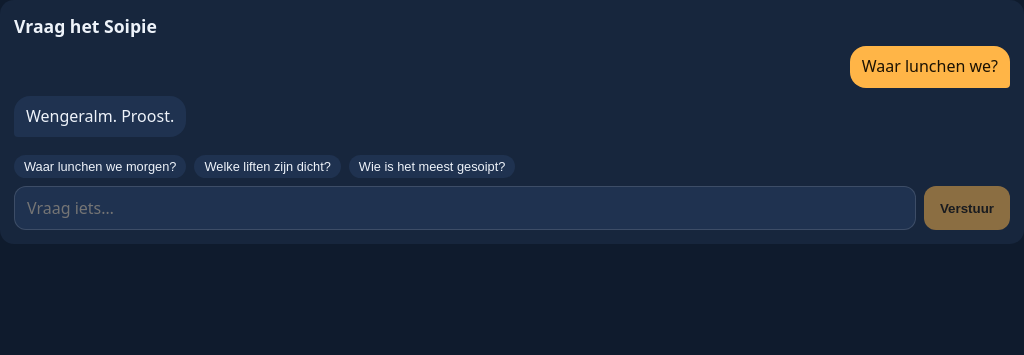
ChatPanel › shows the daily limit message
Type "Nog eentje?" into the field named "Bericht aan Soipie" at (465, 208), box x1=14 y1=186 x2=916 y2=230
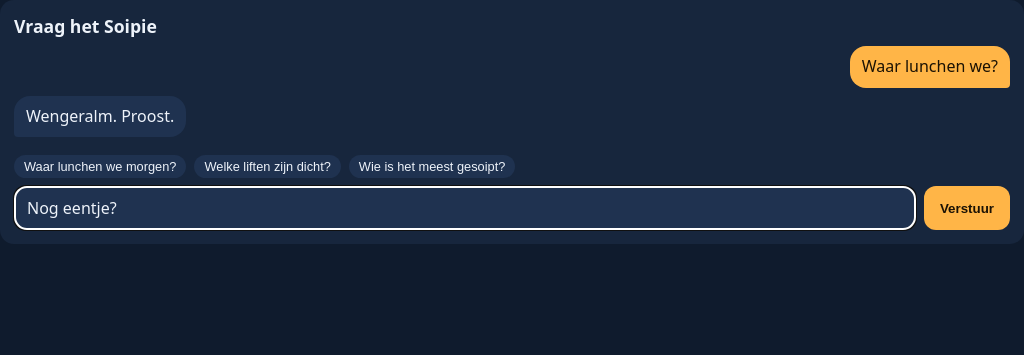
Click the button "Verstuur" at (967, 208), box x1=924 y1=186 x2=1010 y2=230
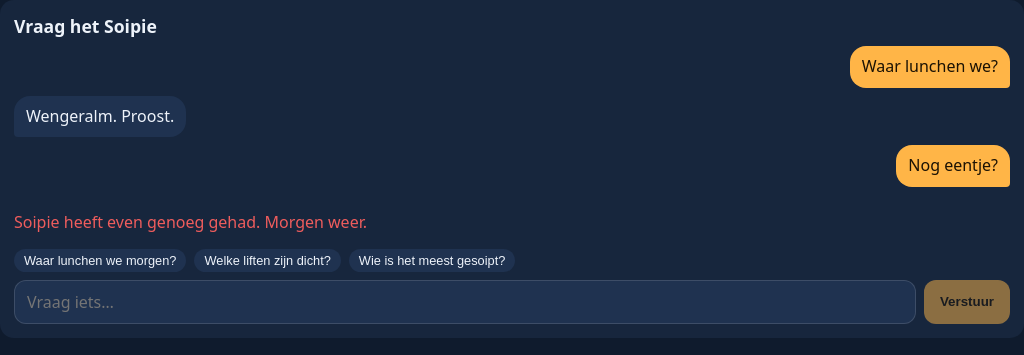
Now the text "Soipie heeft even genoeg gehad. Morgen weer." is shown, box x1=14 y1=211 x2=367 y2=233
